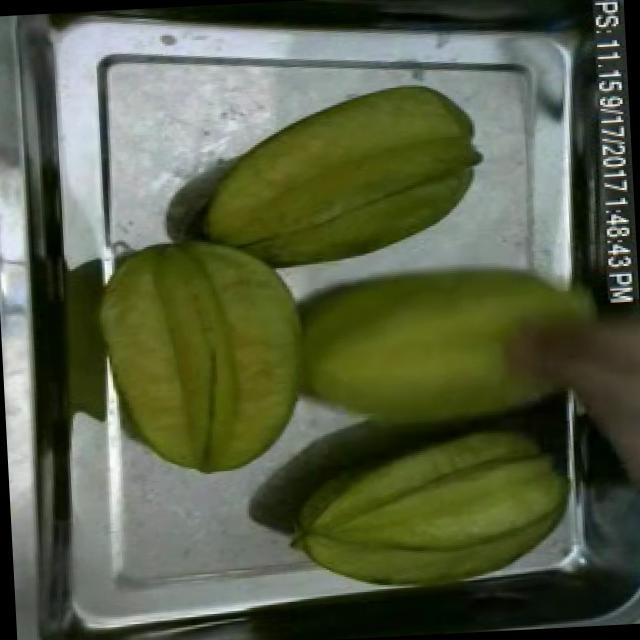fruit: (275, 253, 621, 484), (82, 218, 325, 492), (186, 71, 494, 286), (274, 410, 584, 612), (557, 287, 640, 505)
